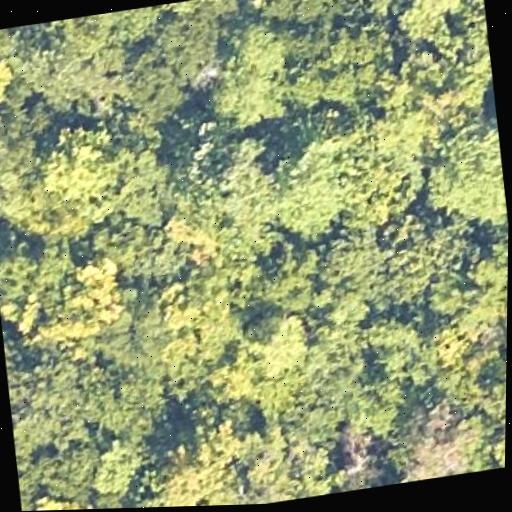tree-top: (4, 347, 145, 506), (0, 226, 134, 356), (320, 202, 465, 319), (261, 113, 392, 240), (180, 134, 290, 274), (129, 268, 249, 385), (275, 9, 399, 117), (364, 46, 480, 160), (134, 411, 270, 508), (13, 14, 129, 119), (202, 18, 297, 137), (418, 117, 510, 235), (268, 342, 380, 436), (33, 115, 136, 213), (384, 388, 488, 484), (358, 306, 452, 402), (237, 423, 340, 505), (140, 4, 233, 94), (239, 237, 328, 331), (109, 137, 186, 238), (0, 20, 73, 119), (442, 240, 508, 348), (233, 301, 314, 383), (0, 124, 50, 246), (79, 427, 155, 504), (114, 219, 201, 286), (248, 0, 403, 34), (469, 350, 507, 471), (326, 413, 383, 493), (392, 0, 479, 51), (79, 5, 167, 47), (0, 26, 28, 116), (24, 488, 108, 511)
